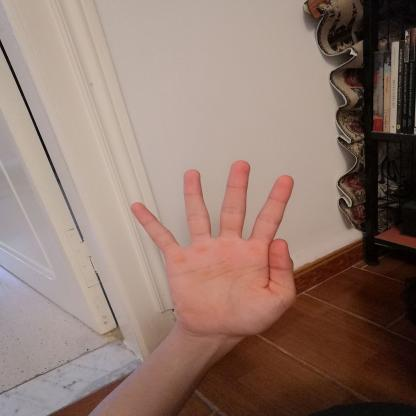SHEEN: (118, 154, 312, 347)
